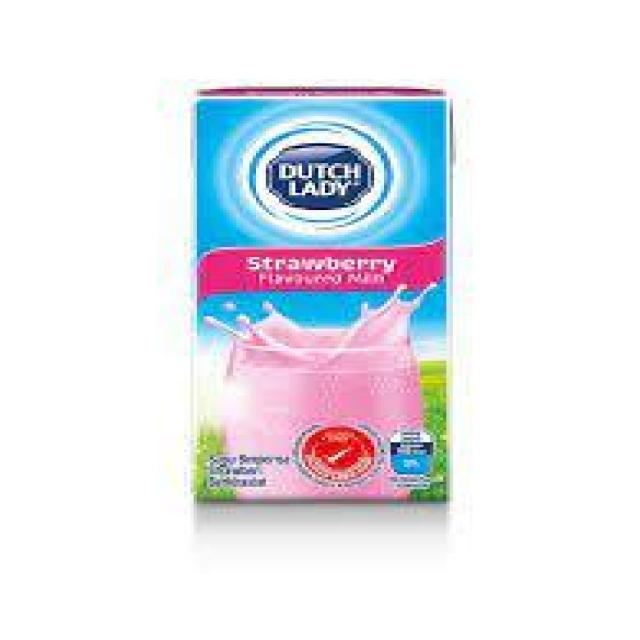drink carton: (190, 84, 458, 515)
